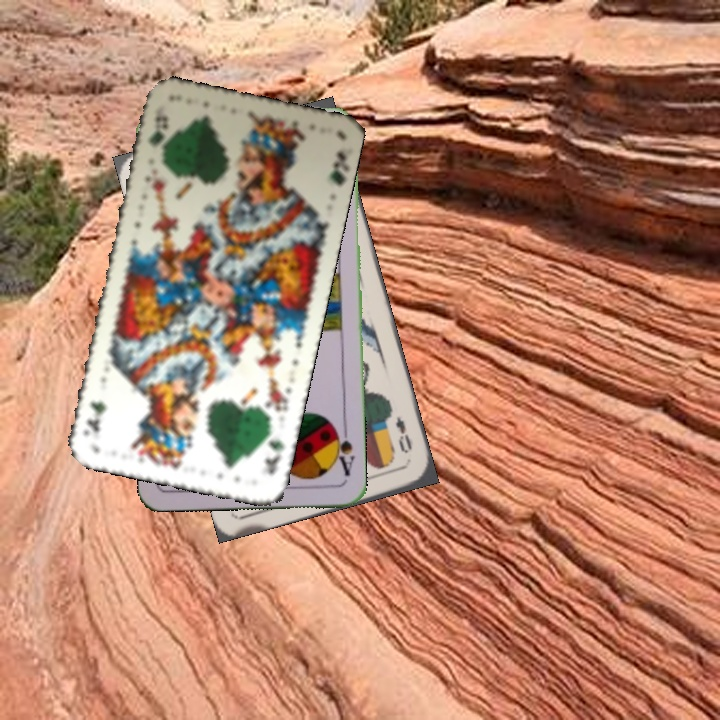EO: (391, 412, 415, 456)
GK: (261, 420, 287, 477), (144, 102, 169, 150)
SA: (330, 422, 357, 478)
